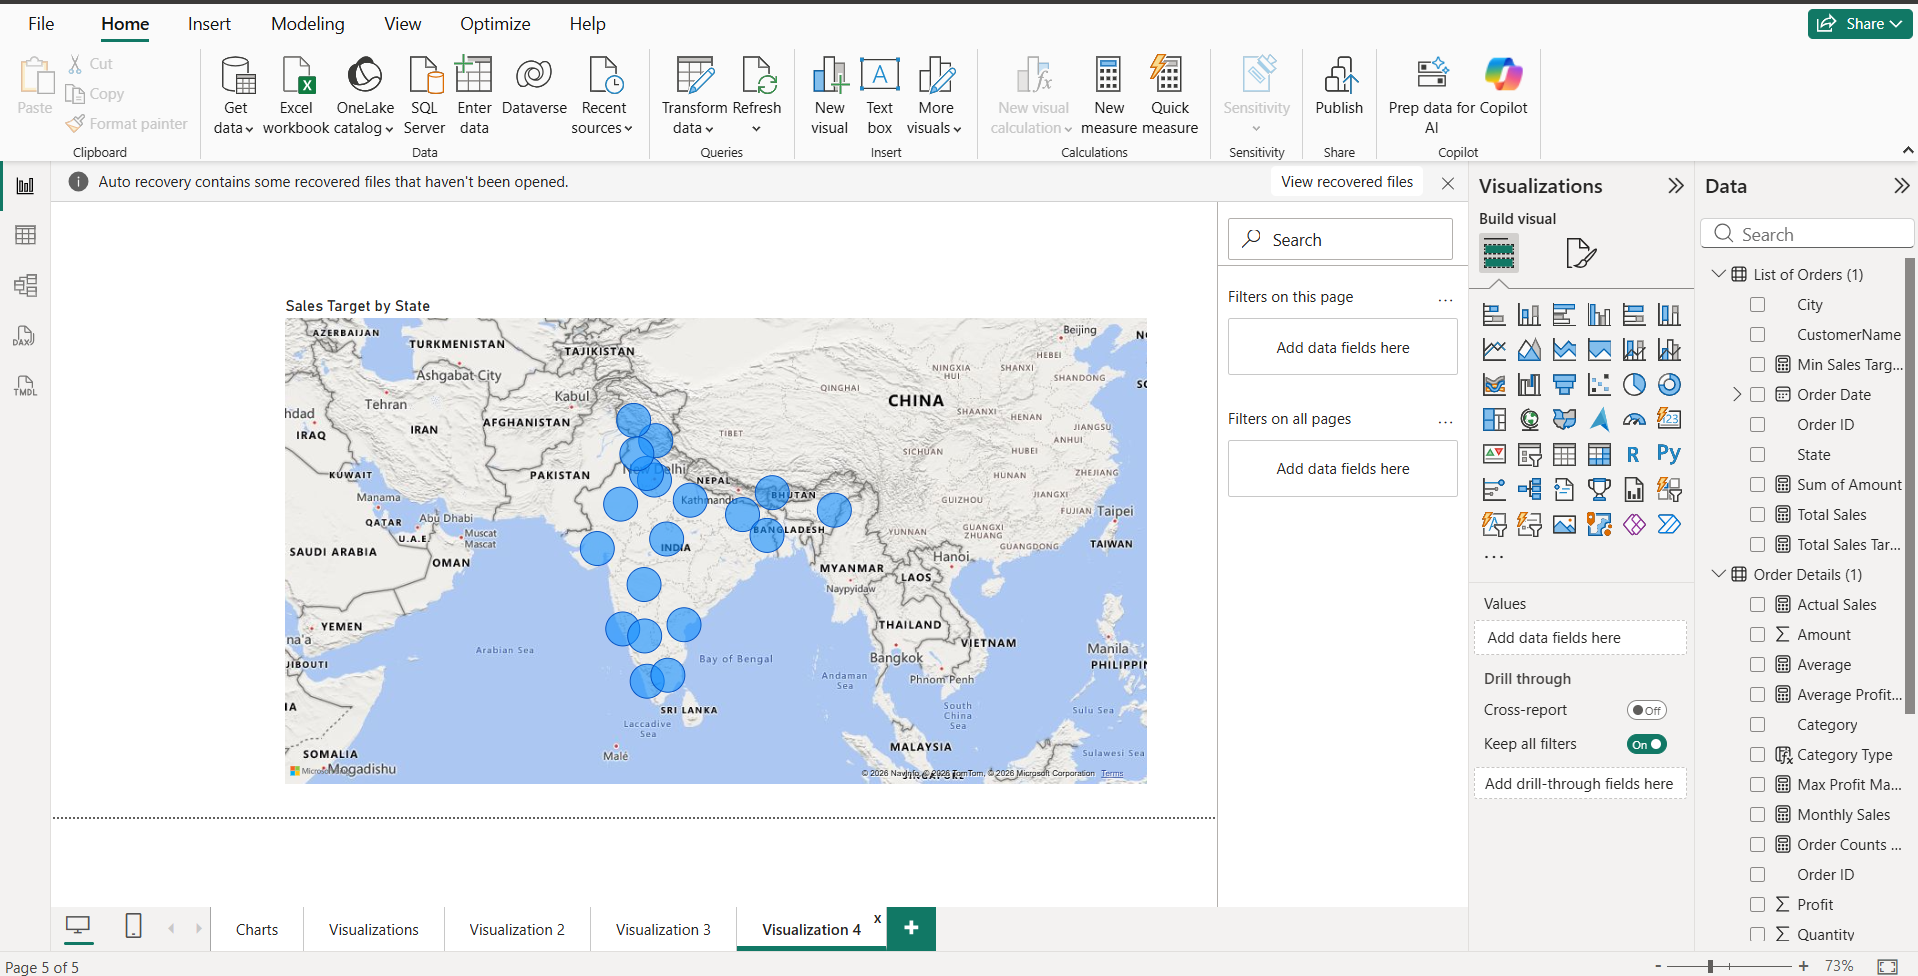

The page's visual inventory and layout, read from the dashboard file:
{"tool":"powerbi","page":{"name":"Visualization 4","canvas":[1280,720],"ordinal":4},"visuals":[{"type":"map","fields":{"Size":["Order Details (1).Sales Target"],"Category":["List of Orders (1).State"]},"box":[252.5,148.2,955.1,540.7],"z":0}]}

Visuals, with their boxes on the page's 1280x720 design canvas (x1, y1, x2, y2). These are canvas units, not pixel positions in the 1918x976 screenshot, which may show the page scaled, cropped or inside an application window:
map - Order Details (1).Sales Target x List of Orders (1).State: [x1=252, y1=148, x2=1208, y2=689]
